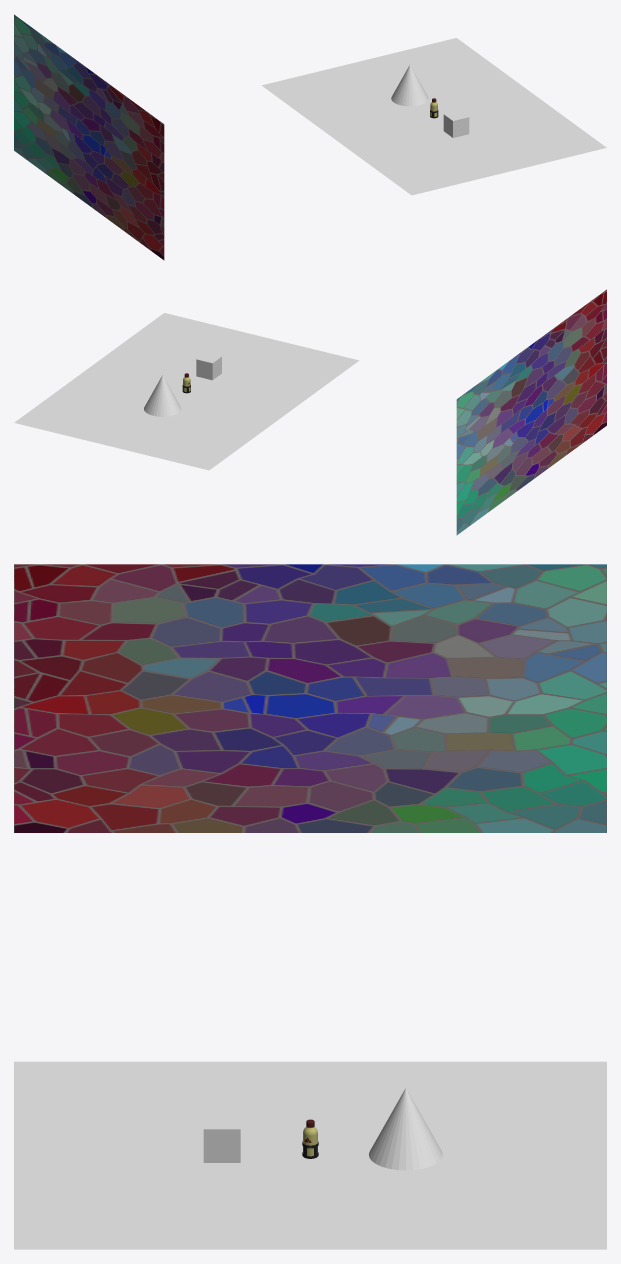
The model's file is example1.gltf.
3 renders of one model, top to bottom at view 1: azimuth 30°, elevation 25°; view 2: azimuth 150°, elevation 25°; view 3: azimuth 270°, elevation 25°, orthographic. The views are drawn at different scales.
Parts seen in each view (by area): view 1: Floor, Vitro, Cone, Cube; view 2: Floor, Vitro, Cone, Cube; view 3: Vitro, Floor, Cone, Cube.
Part boxes in pixels (x1,y1,x2,y2): Floor: (261,38,606,195); Vitro: (14,14,164,260); Cone: (391,65,428,106); Cube: (443,110,469,137); Floor: (14,313,359,470); Vitro: (456,289,606,535); Cone: (144,375,181,416); Cube: (196,352,221,380); Vitro: (14,564,606,832); Floor: (14,1061,606,1249); Cone: (369,1088,442,1170); Cube: (203,1113,240,1162).
Size of the model in its own units: 6.8 by 2 by 4.
Materials: 5 (2 with a texture image).
